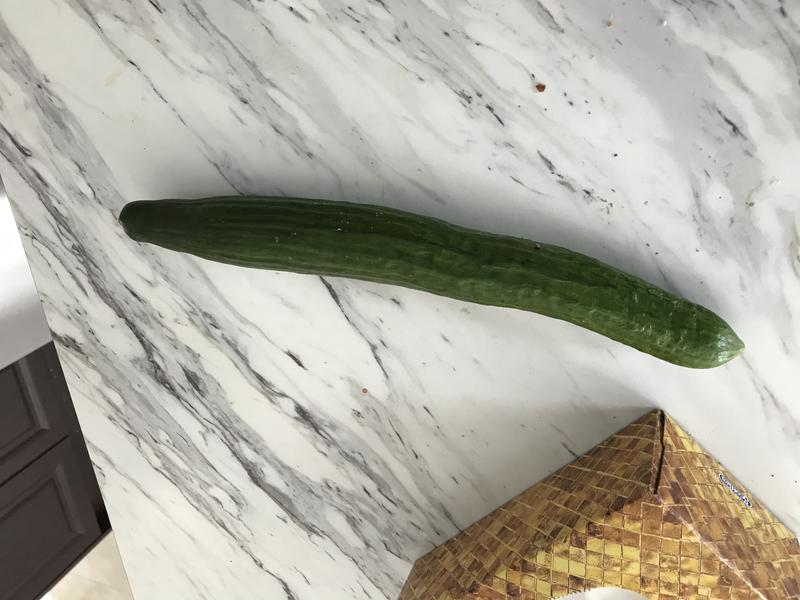cucumber: (112, 185, 755, 382)
